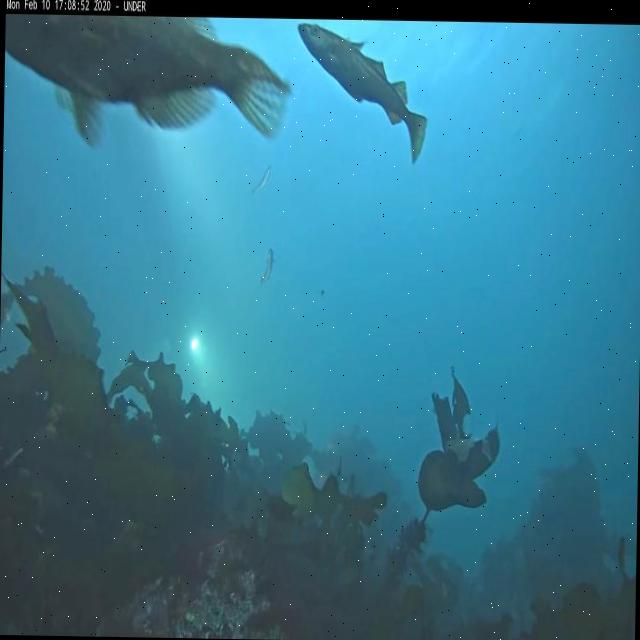fish: (3, 15, 294, 157), (294, 21, 428, 166), (250, 163, 272, 195), (260, 247, 274, 283)
